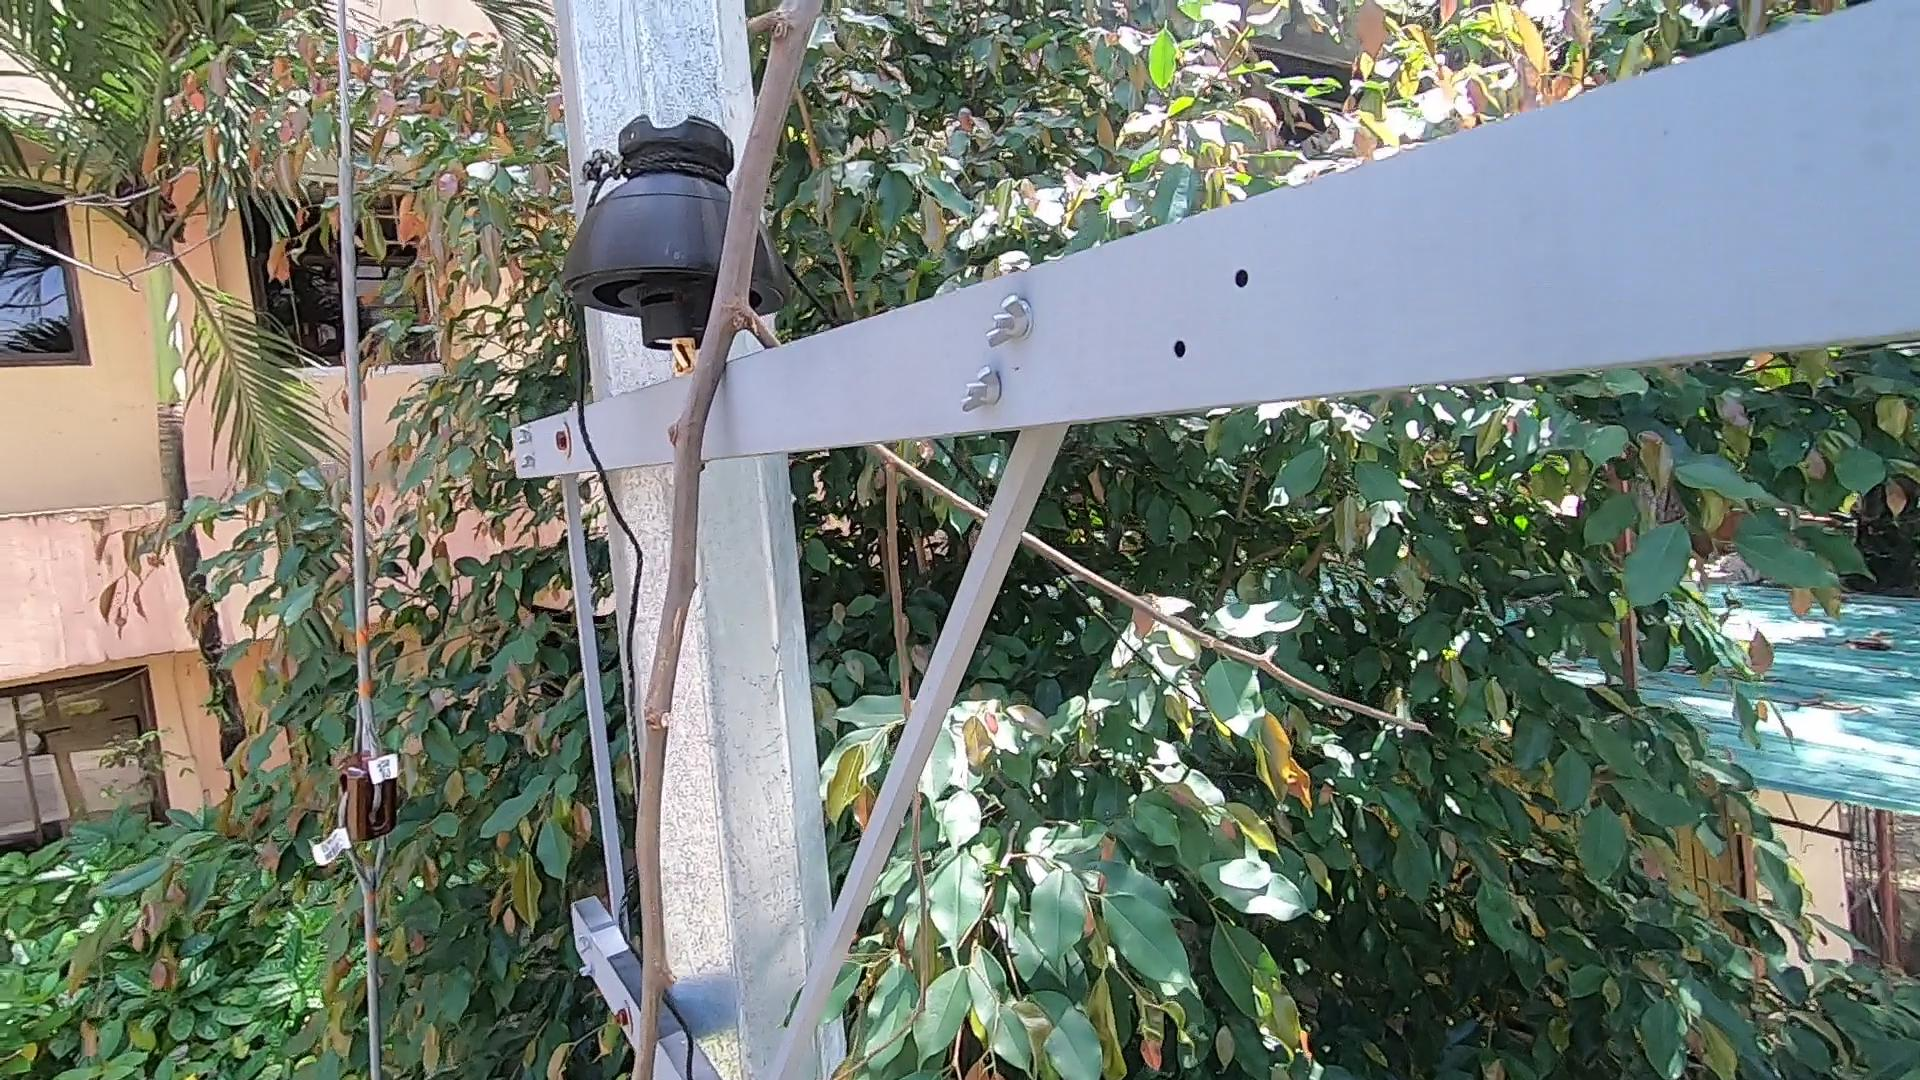tree branch: (597, 11, 815, 1077)
